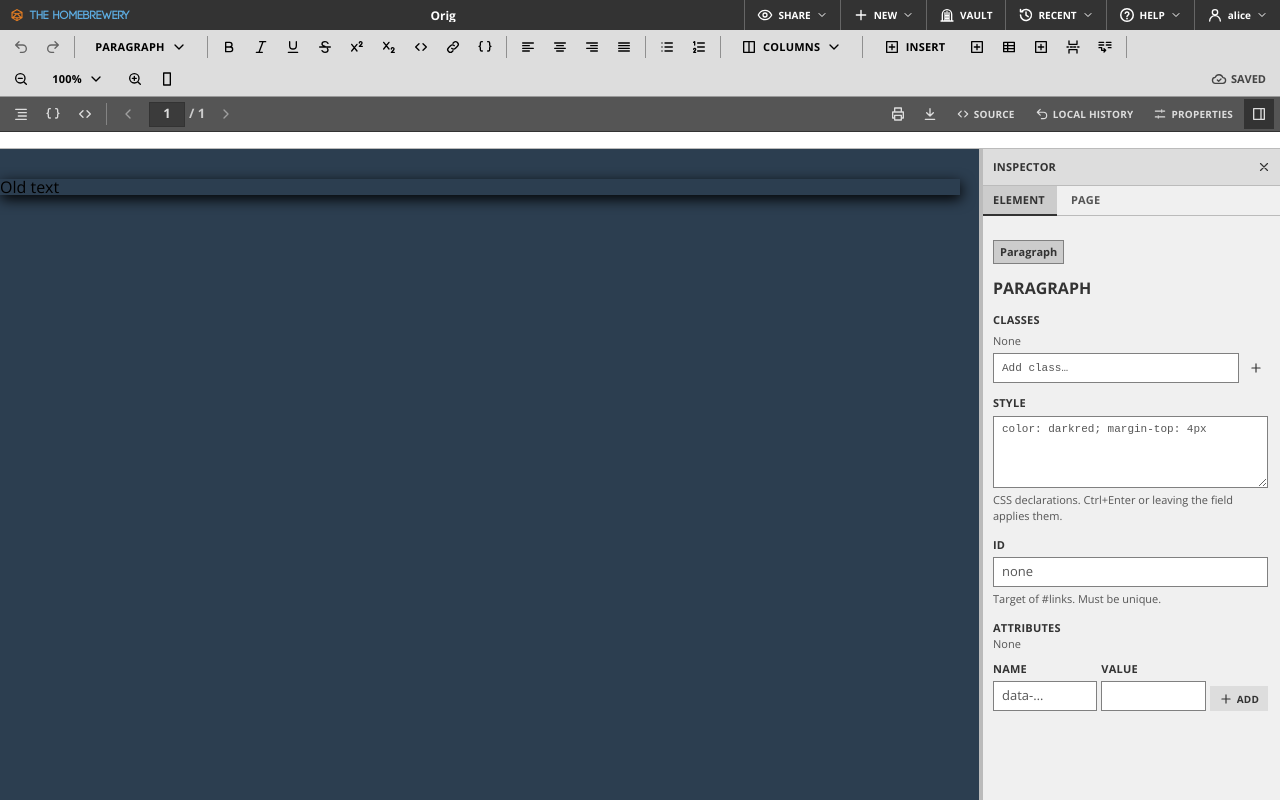
Test case: brew snippets in the editor page › lists the brew’s and the user theme’s snippets in the Insert menu, and in the panel the app bar opens
Step 1. Click the button with test id "insert-menu" → (914, 47), box [869,32,960,62]
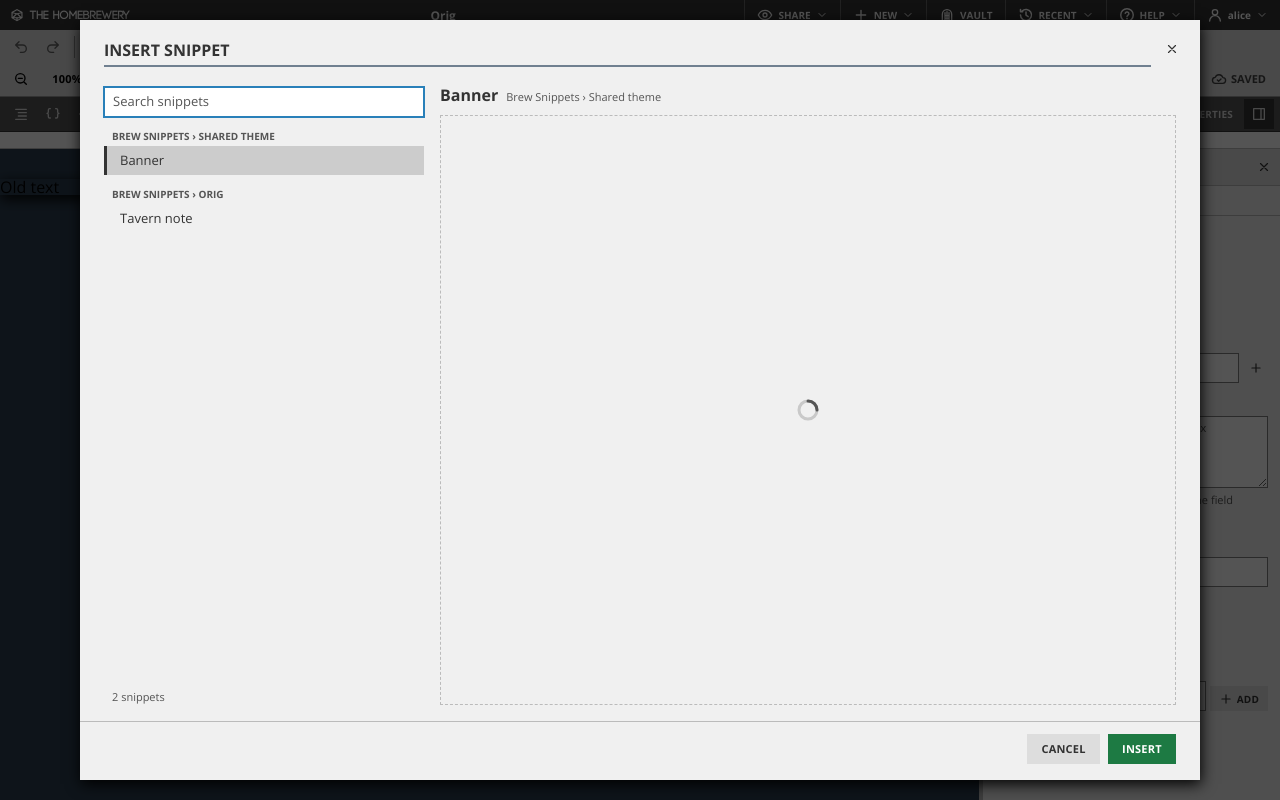
Step 2. Press Escape
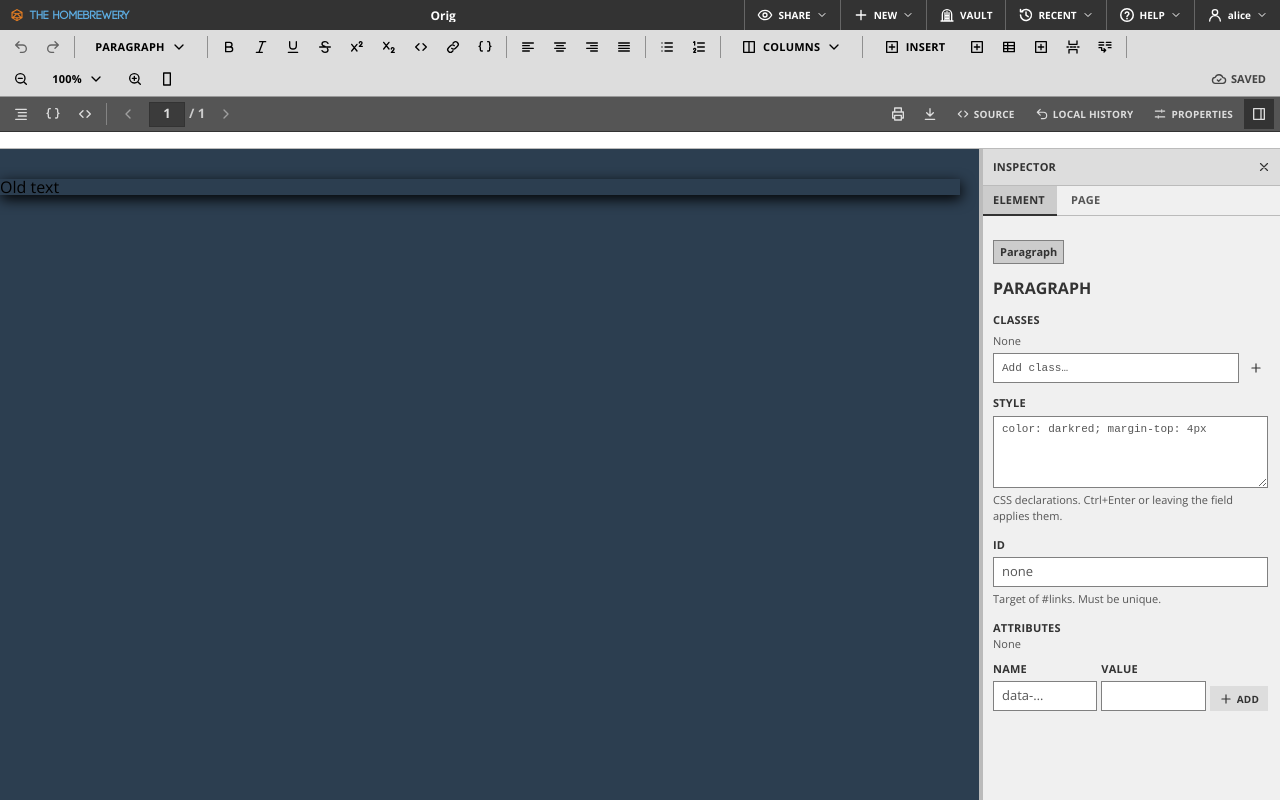
Step 3. Click the button with test id "toggle-snippets" → (85, 114), box [70,99,100,129]
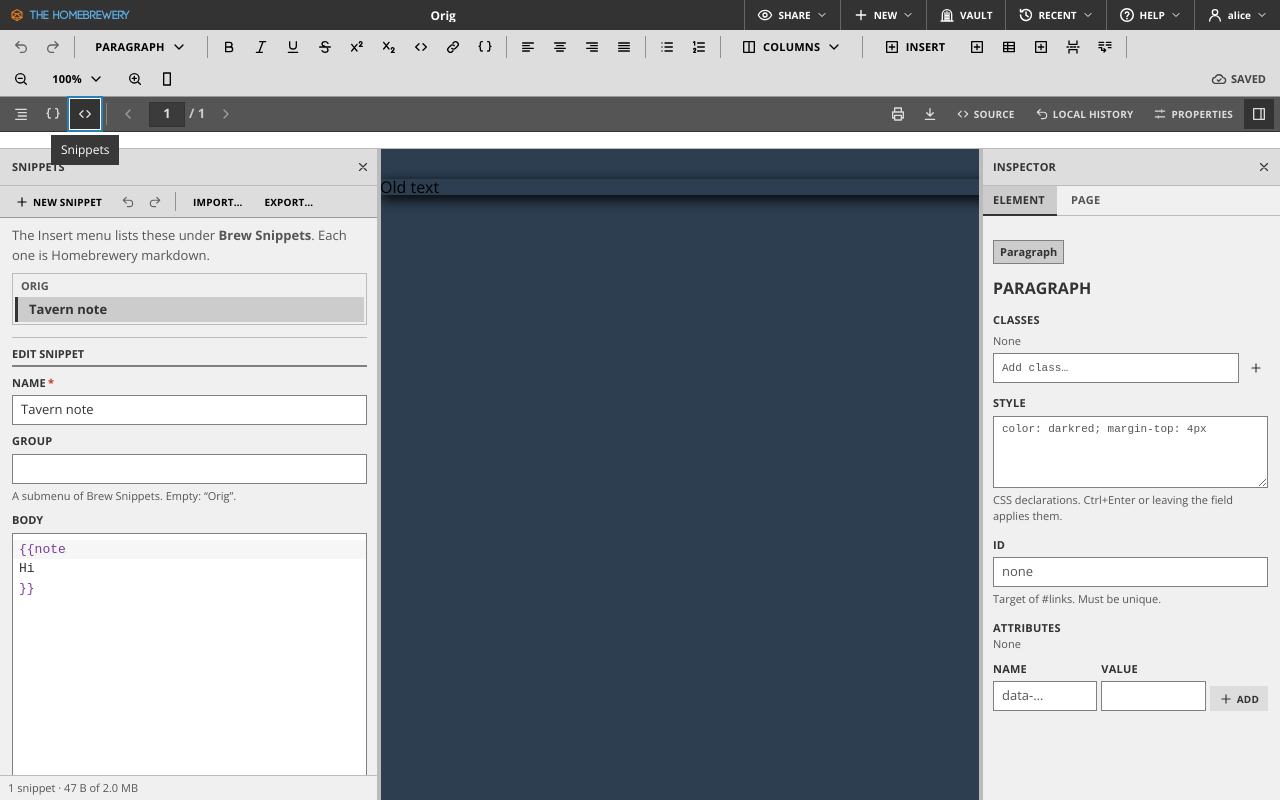
Now the options read "Tavern note", in this order, box [15,296,364,322]
